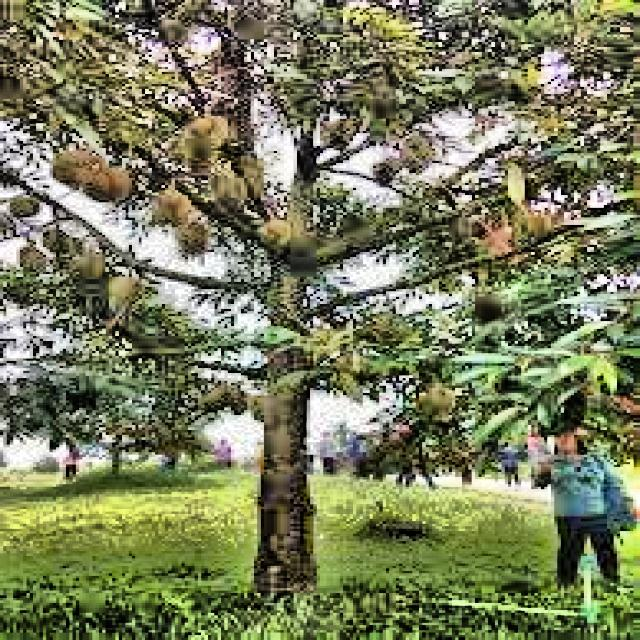arvore: (242, 152, 338, 610)
